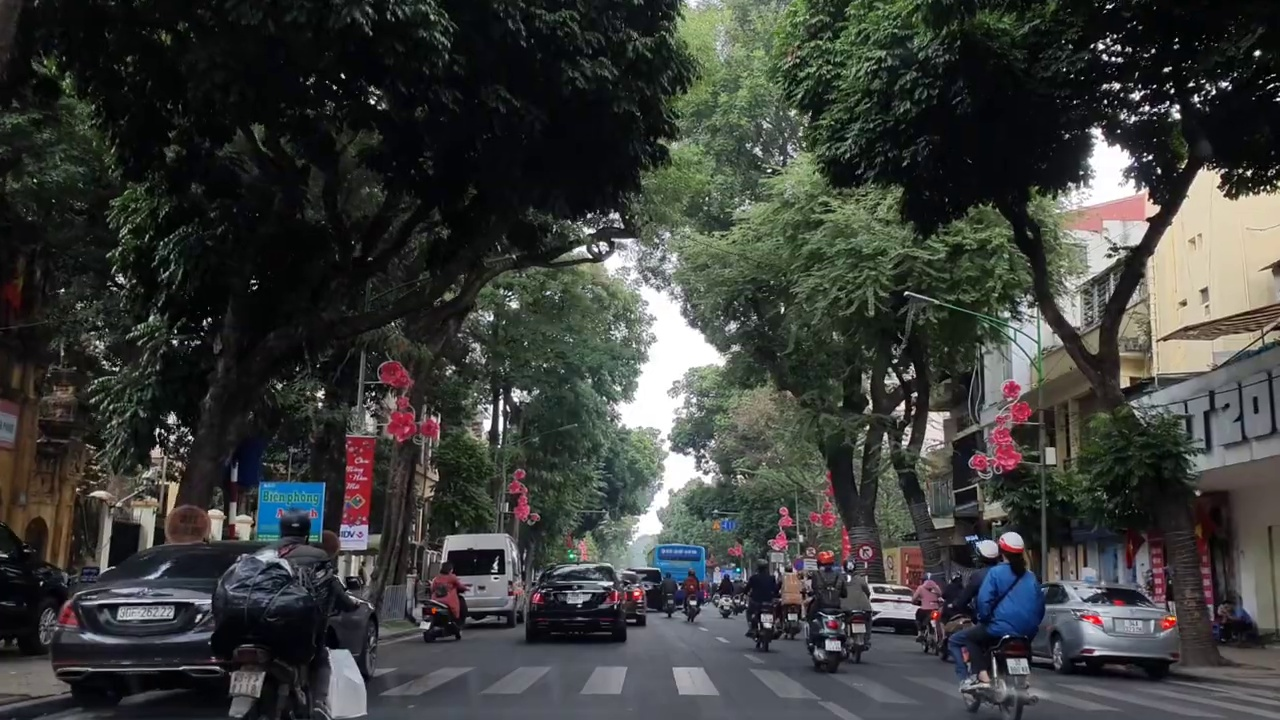person: (229, 667, 262, 698), (116, 605, 173, 618), (1007, 654, 1031, 672), (1121, 618, 1144, 635), (564, 591, 582, 605), (825, 637, 845, 649), (851, 622, 867, 633), (418, 618, 430, 630), (759, 611, 771, 621)
